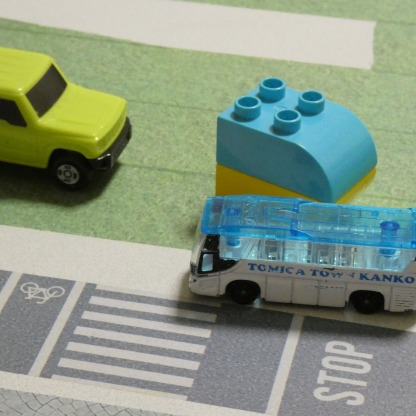car: (187, 195, 416, 315), (0, 42, 134, 191)
